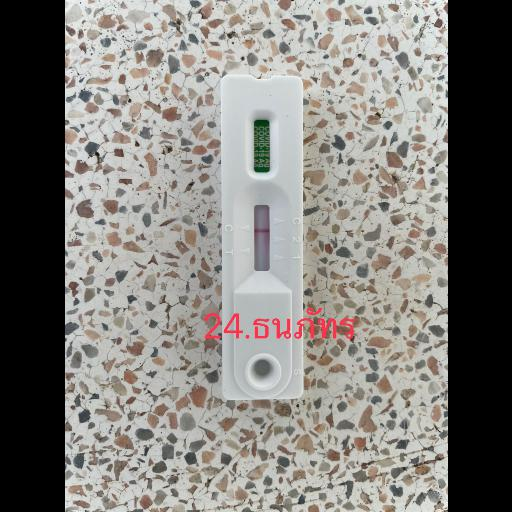Neg: (220, 72, 304, 396)
